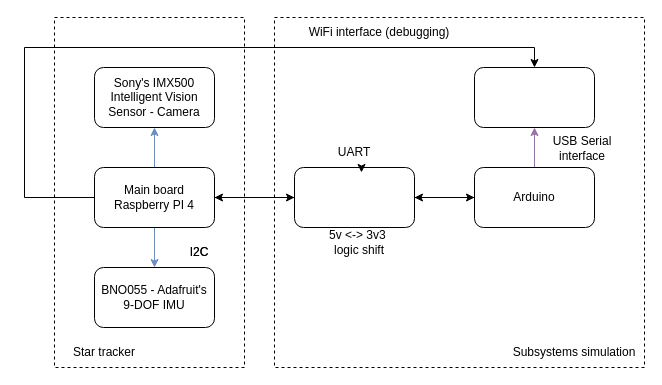
The diagram is 662 pixels wide and 385 high, and some of its shapes have lost their labels. The shapes that lost their labels are listed below. From the top down, each one's centre as x and y in pixels, then its label:
At (534,97): "Computer".
At (354,197): "Logic Shifter".
